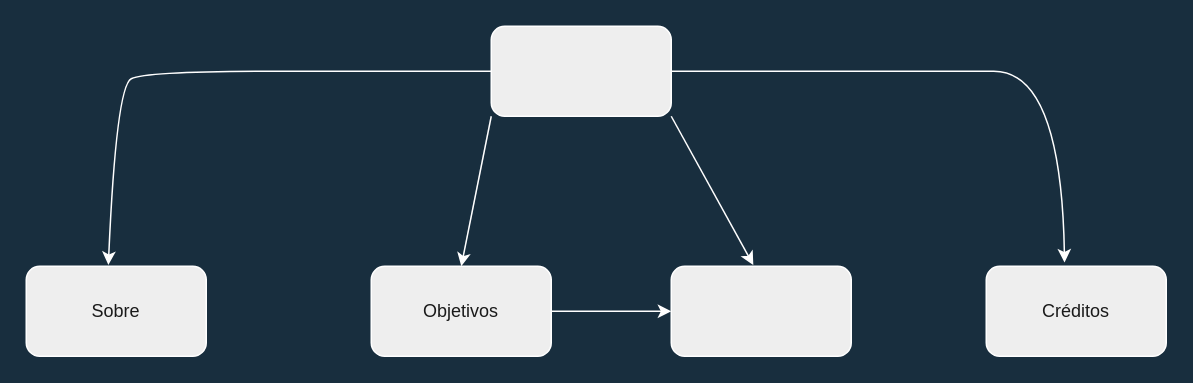
The diagram is 1193 pixels wide and 383 high, and some of its shapes have lost their labels. The shapes that lost their labels are listed below. From the top down, each one's centre as x and y in pixels, then its label:
point (580, 70): Home
point (760, 310): Metas
